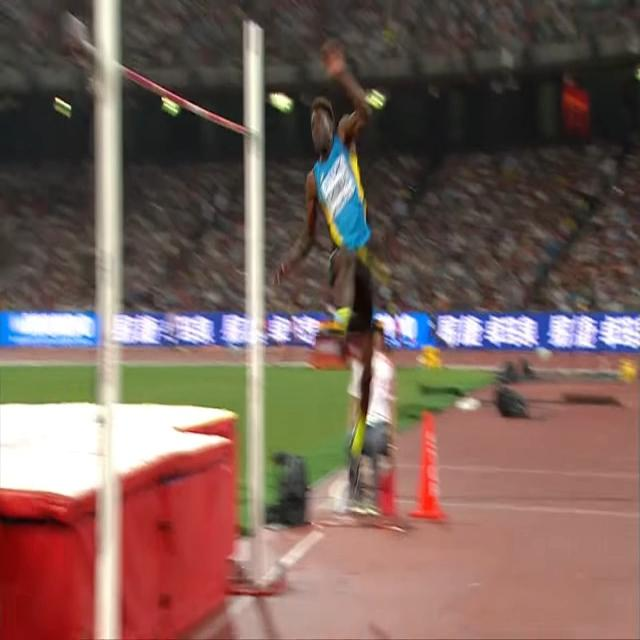jump: (272, 36, 376, 508)
